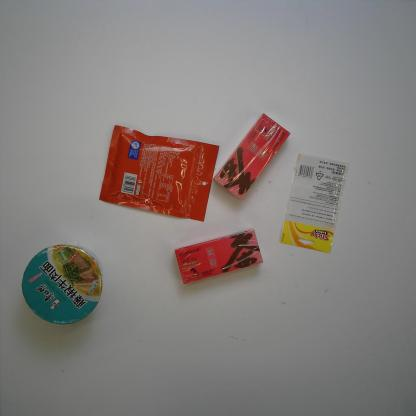Dried Fruit: (99, 125, 219, 222)
Instant Drink: (213, 113, 291, 200), (174, 228, 263, 285)
Instant Noodles: (22, 244, 104, 324)
Stationery: (278, 153, 350, 254)
